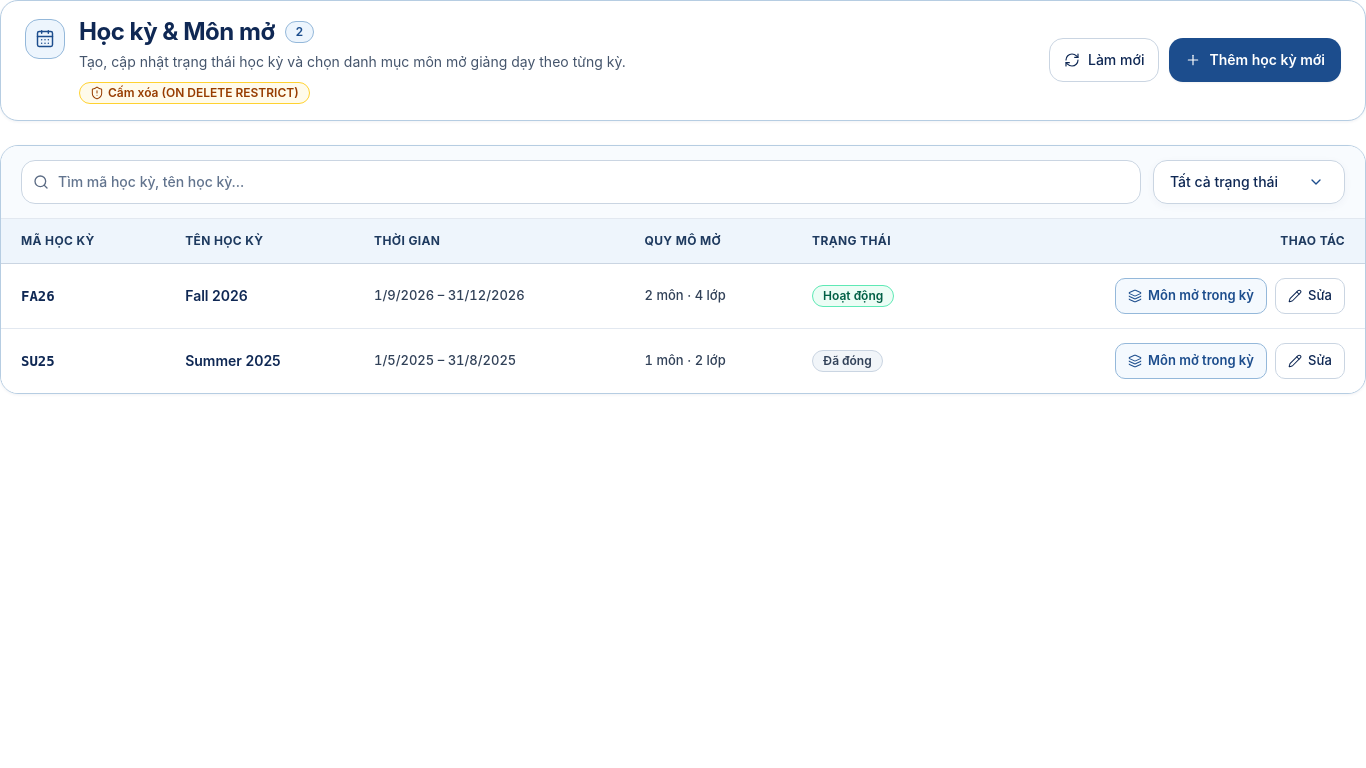
Test: Admin Academic Management — Semesters, Programs & Courses (M3) › edits an existing semester via updateSemester and maps 400/422 server FieldError on AdminSemestersPage
The image size is (1366, 768).
Expected: the text "FA26" is shown, [1,263,169,328]
Click the button with aria-label "Sửa học kỳ FA26": (1310, 296) [1275,278,1345,314]
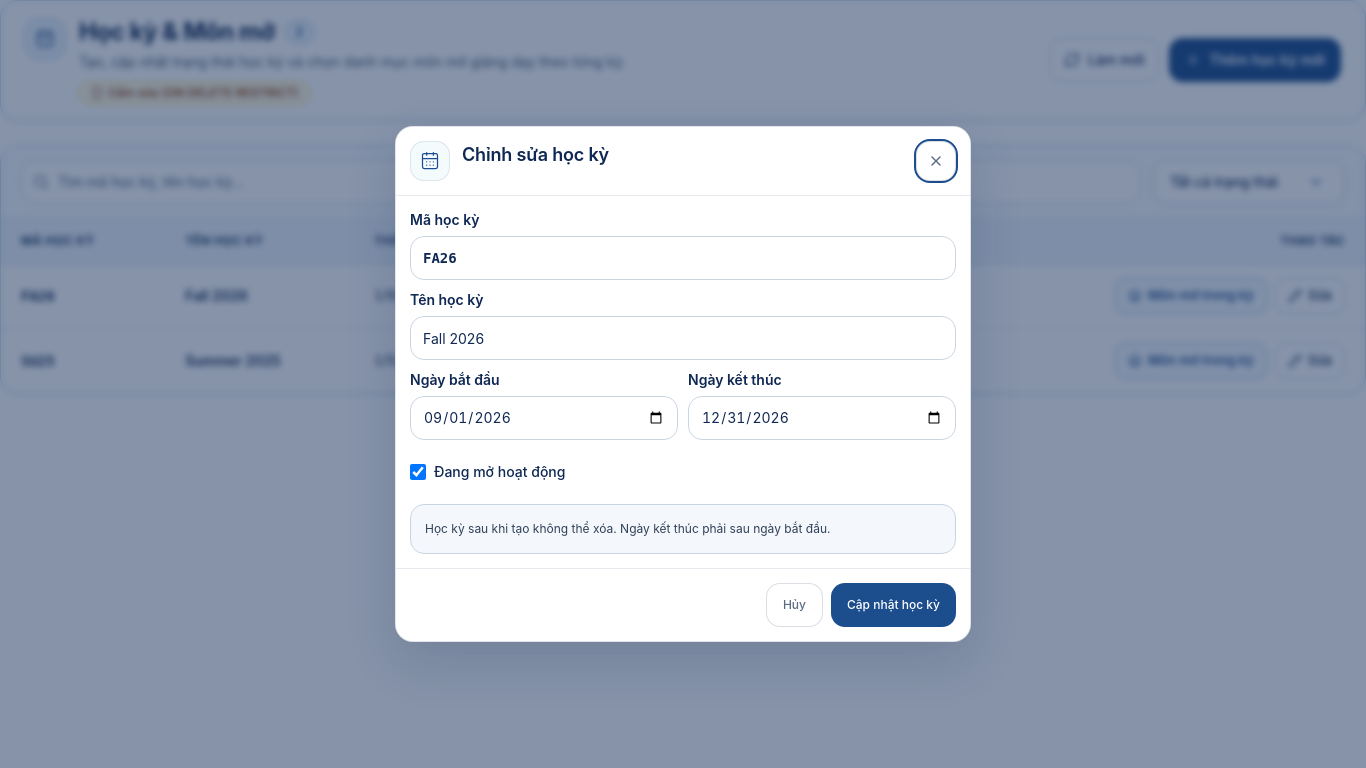
Now the dialog is shown, box [395,126,971,642]
Now the field labelled "Mã học kỳ" holds "FA26", box [410,236,956,280]
Now the field labelled "Tên học kỳ" holds "Fall 2026"
Replace the text in the field labelled "Tên học kỳ" with "Fall 2026 Updated": (683, 338) [410,316,956,360]
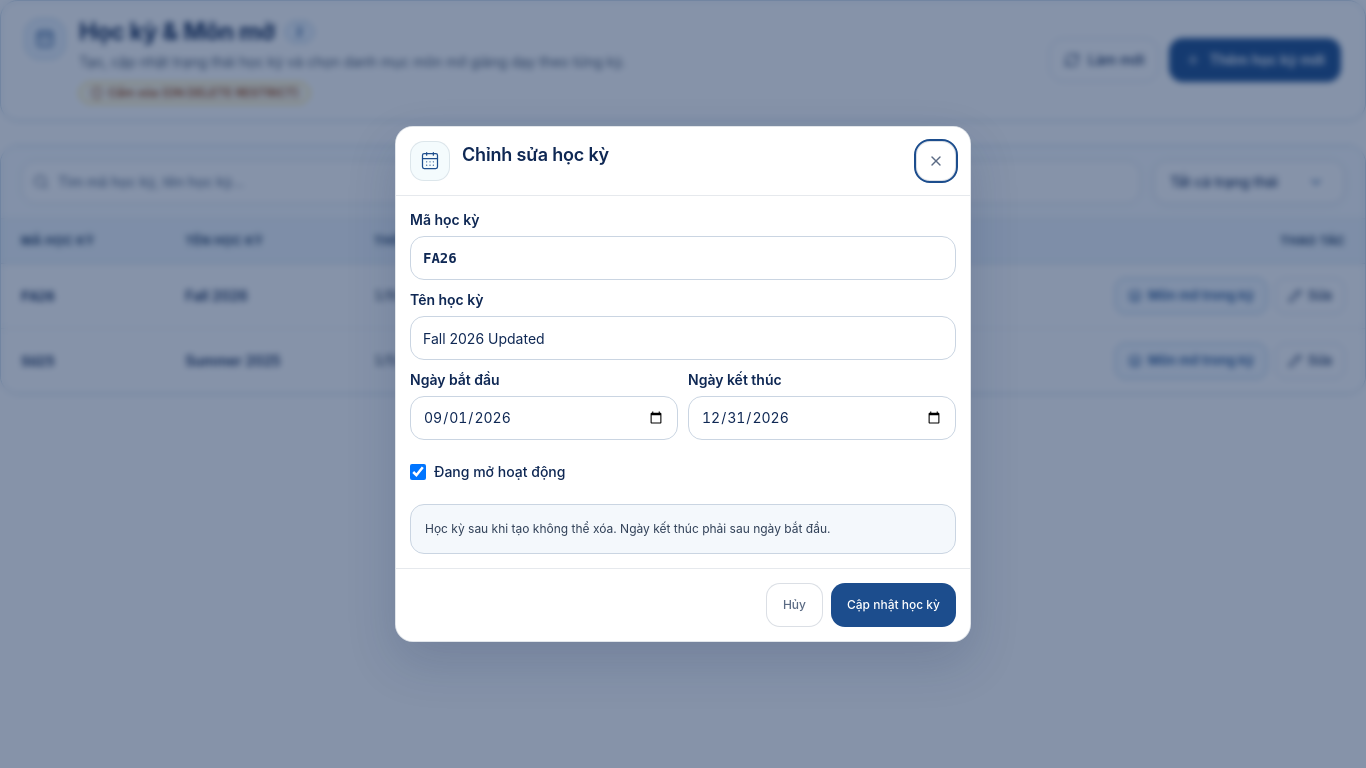
In the date field labelled "Ngày kết thúc": (822, 418) [688,396,956,440], type "2027-01-15"
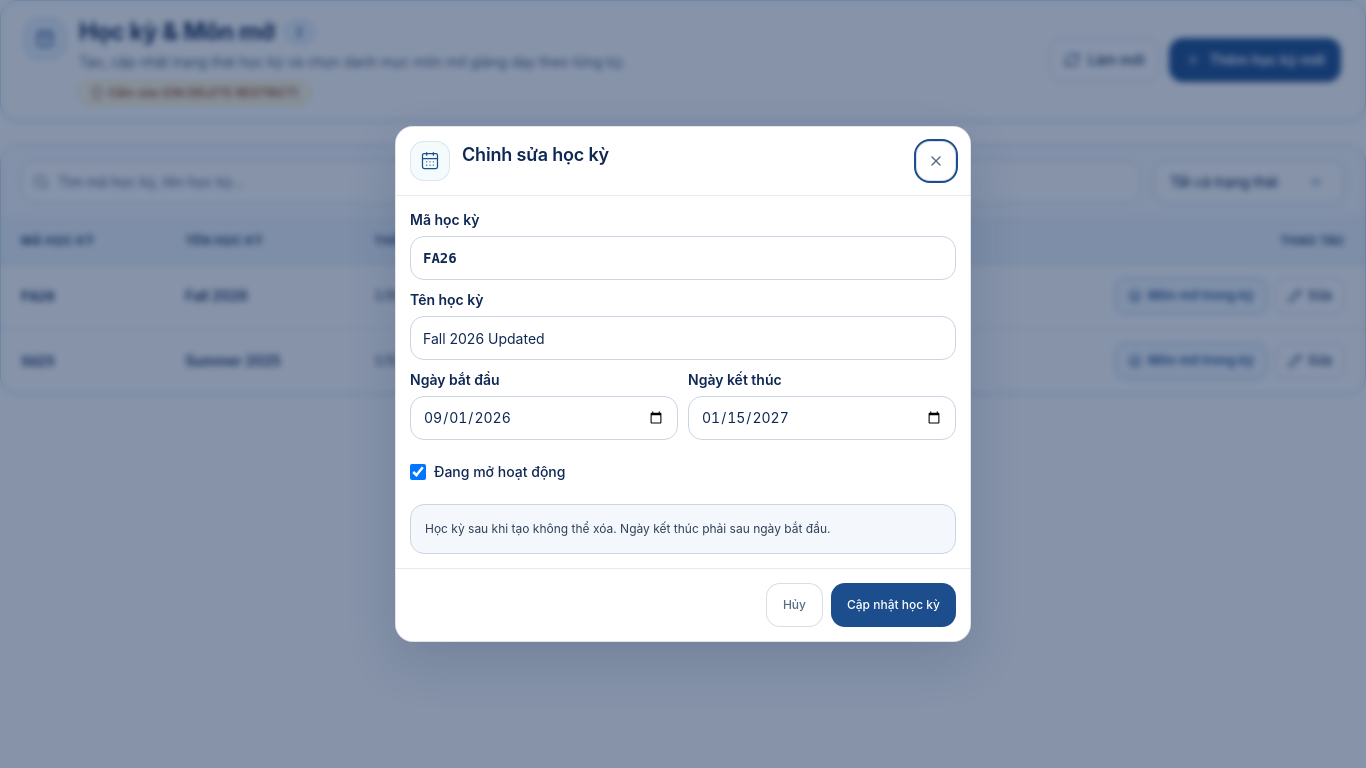
First submit triggers 422 field errors
Click the button "Cập nhật học kỳ": (894, 605) [831,583,956,627]
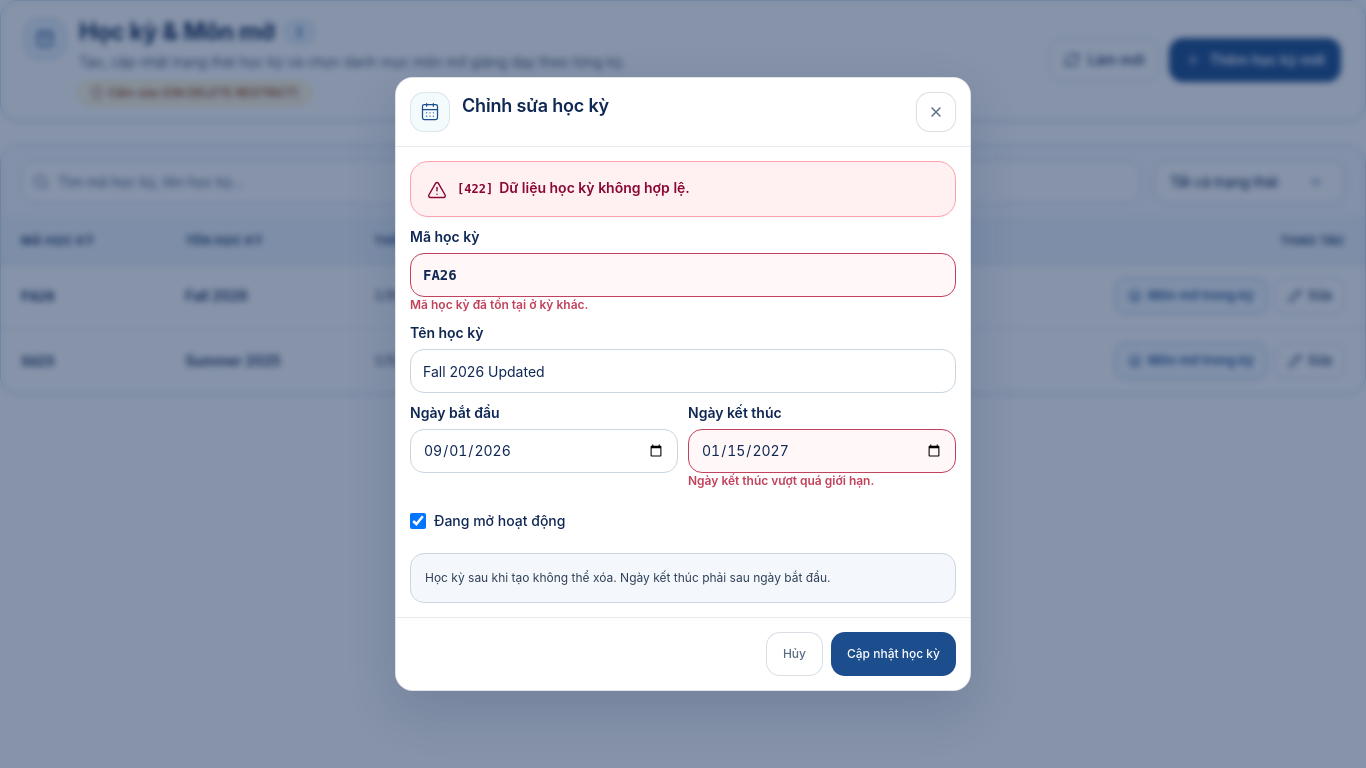
Now the text "Mã học kỳ đã tồn tại ở kỳ khác." is shown, box [410,297,588,312]
Now the text "Ngày kết thúc vượt quá giới hạn." is shown, box [688,473,874,488]
Second submit succeeds
Click the button "Cập nhật học kỳ": (894, 654) [831,632,956,676]
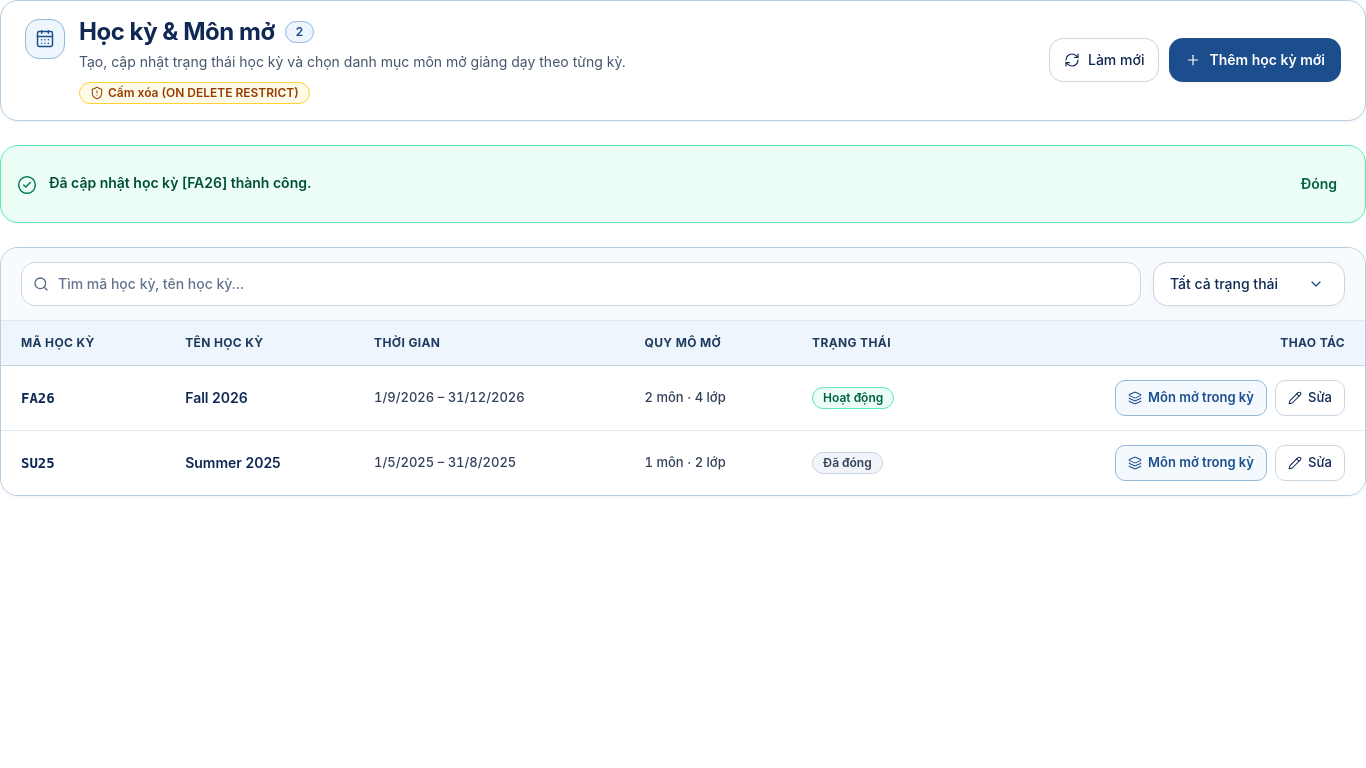
Now the message shows "Đã cập nhật học kỳ [FA26] thành công.", box [49,174,311,191]
